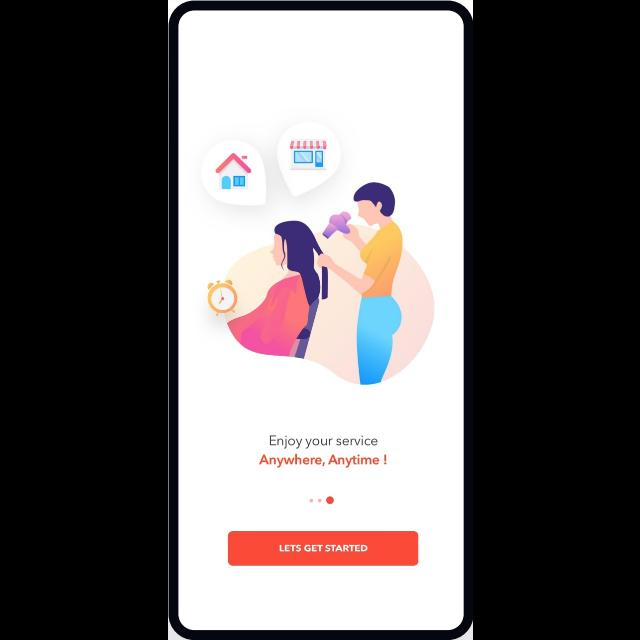image: (200, 122, 434, 384)
pageindicator: (308, 496, 334, 504)
text: (258, 454, 386, 468), (268, 435, 378, 449)
textbutton: (227, 530, 418, 566)
